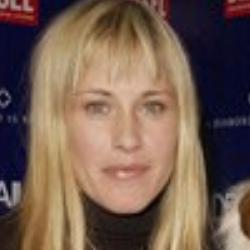face: (19, 2, 223, 231)
